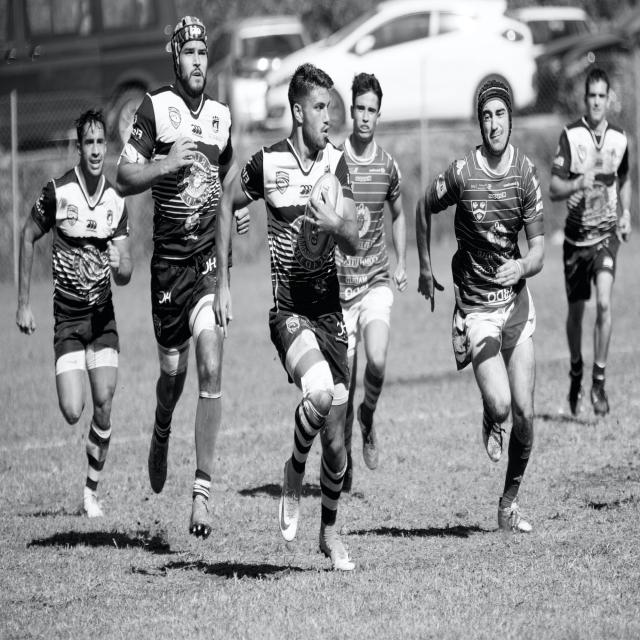adult: (213, 63, 362, 567), (115, 15, 251, 532), (416, 82, 544, 527), (18, 102, 134, 522), (548, 68, 632, 417), (335, 72, 405, 483)
